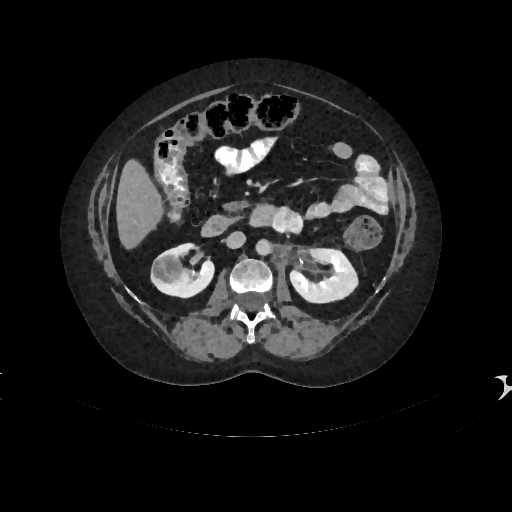Lesion: (153, 251, 185, 287)
